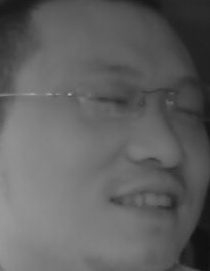glass: (75, 74, 146, 117)
mouth: (113, 178, 183, 223)
